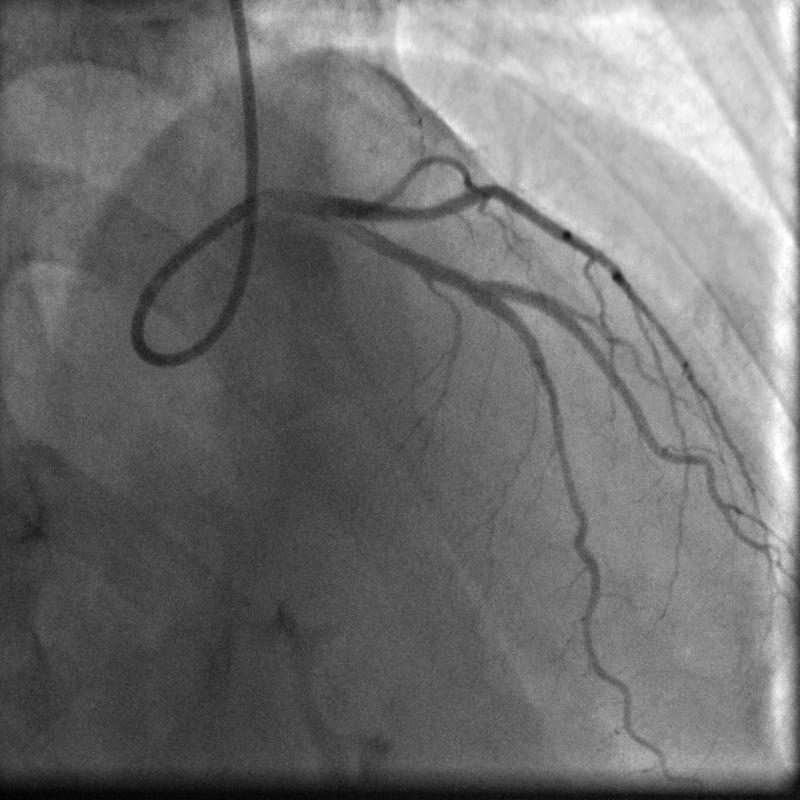Stenosis: (456, 268, 481, 307)
